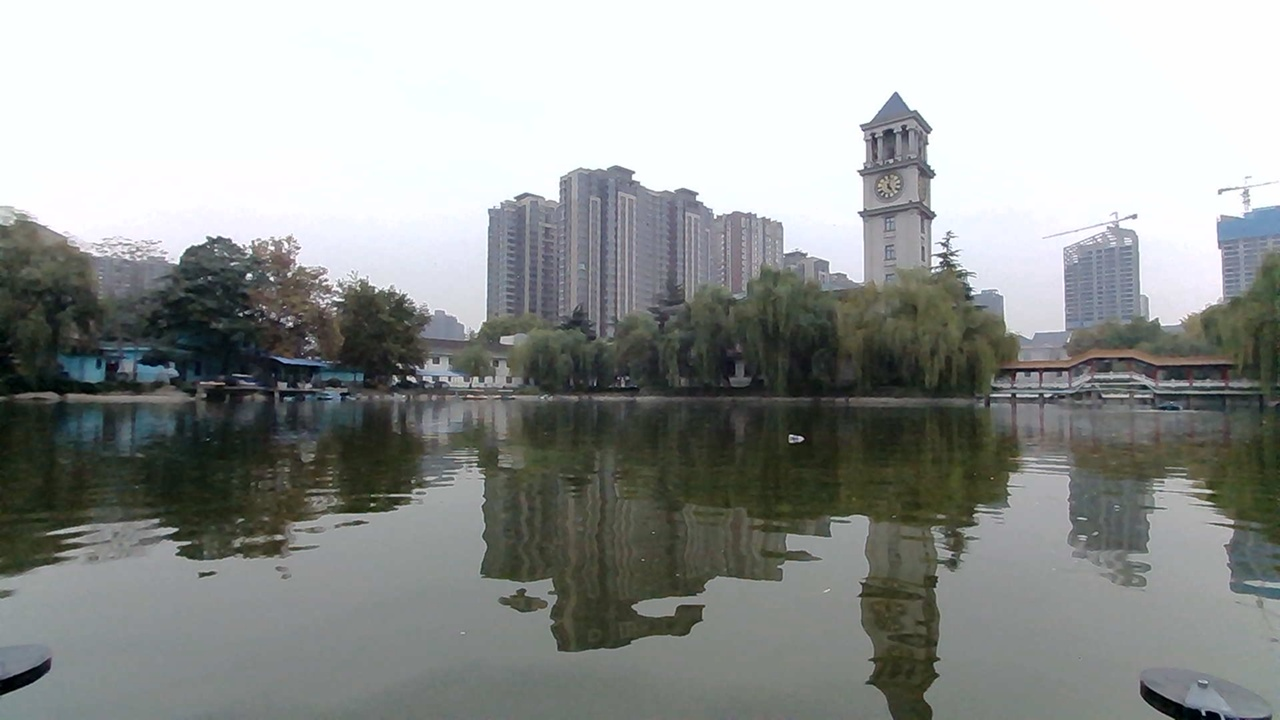bottle: (783, 421, 822, 451)
